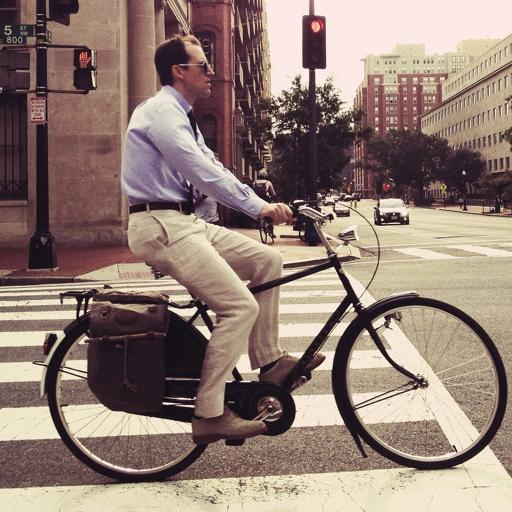non-vehicle: (32, 199, 507, 481), (258, 196, 274, 243)
